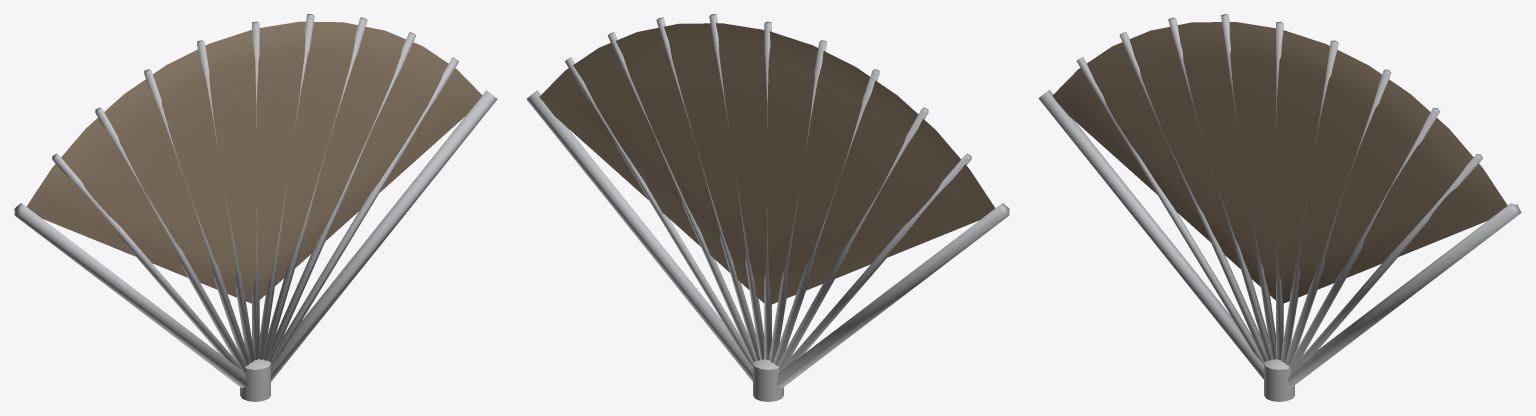
File: fighting-fan.glb
3 views of the same model, side by side, from view 1: azimuth 30°, elevation 25°; view 2: azimuth 150°, elevation 25°; view 3: azimuth 330°, elevation 25° (orthographic).
Parts seen in each view (by area): view 1: fighting-fan; view 2: fighting-fan; view 3: fighting-fan.
Part boxes in pixels (x1,y1,x2,y2): fighting-fan: (14,14,497,401); fighting-fan: (526,14,1009,401); fighting-fan: (1038,14,1521,401).
Size of the model in its own units: 0.7838 by 0.59 by 0.044.
